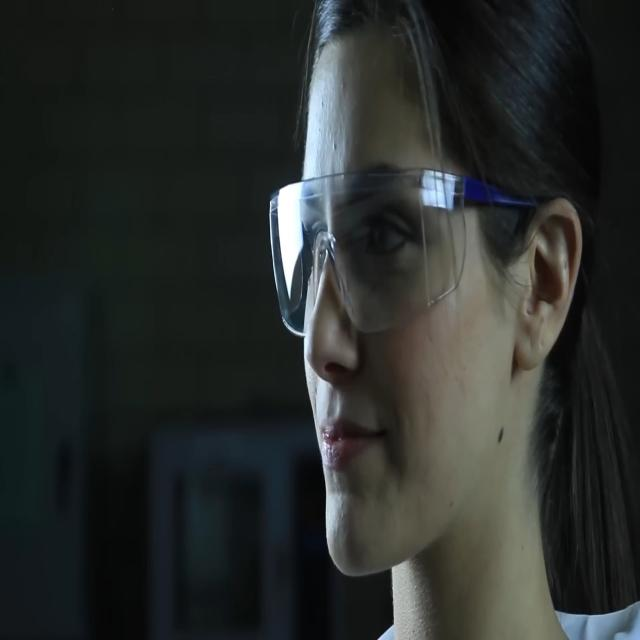googles: (264, 158, 488, 344)
labcoat: (369, 586, 639, 640)
